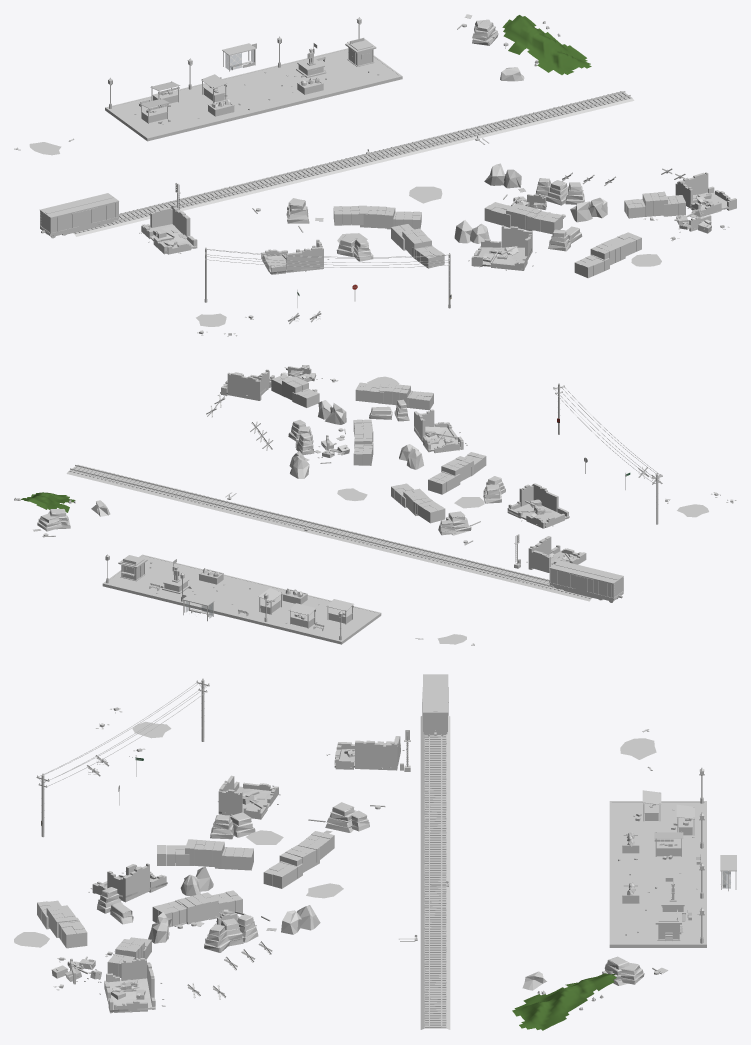
The model's file is outdoor_22.glb.
3 views of the same model, one above another, from view 1: azimuth 30°, elevation 25°; view 2: azimuth 150°, elevation 25°; view 3: azimuth 270°, elevation 25° (orthographic). The views are drawn at different scales.
Parts seen in each view (by area): view 1: gas_station_town; view 2: gas_station_town; view 3: gas_station_town.
Part boxes in pixels (x1,y1,x2,y2): gas_station_town: [14, 14, 736, 336]; gas_station_town: [14, 365, 736, 645]; gas_station_town: [14, 674, 736, 1030].
Size of the model in its own units: 92.88 by 9.48 by 85.2.
5 materials, 4 textured.
